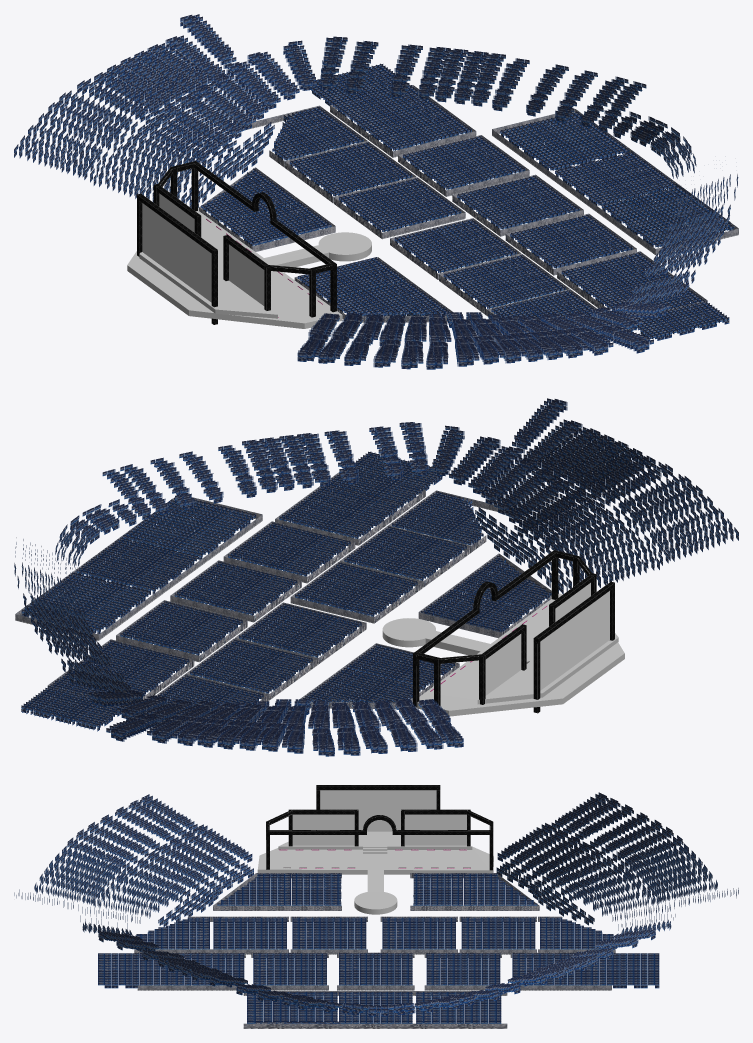
File: TokyoDome-Exp.fbx
The picture shows the model from 3 angles, top to bottom: view 1: azimuth 30°, elevation 25°; view 2: azimuth 150°, elevation 25°; view 3: azimuth 270°, elevation 25°; orthographic projection. The views are drawn at different scales.
Parts seen in each view (by area): view 1: Object002, Bound, Cylinder001, Object025, ScreenBack, Object018, Screens; view 2: Object002, Bound, Cylinder001, Object025, ScreenBack, Object018, Screens; view 3: Object002, Bound, Cylinder001, Object025, Screens, ScreenBack, Object018.
Part boxes in pixels (left/top/right/bottom): Object002: left=14, top=14, right=738, bottom=369; Bound: left=199, top=85, right=738, bottom=322; Cylinder001: left=127, top=210, right=371, bottom=328; Object025: left=137, top=161, right=336, bottom=324; ScreenBack: left=142, top=203, right=211, bottom=302; Object018: left=311, top=63, right=420, bottom=117; Screens: left=159, top=193, right=264, bottom=305; Object002: left=14, top=398, right=738, bottom=756; Bound: left=15, top=472, right=551, bottom=709; Cylinder001: left=382, top=593, right=624, bottom=716; Object025: left=413, top=550, right=614, bottom=713; ScreenBack: left=540, top=591, right=609, bottom=690; Object018: left=21, top=673, right=143, bottom=731; Screens: left=485, top=583, right=590, bottom=695; Object002: left=14, top=792, right=738, bottom=1023; Bound: left=134, top=873, right=615, bottom=1028; Cylinder001: left=257, top=831, right=493, bottom=914; Object025: left=266, top=785, right=493, bottom=872; Screens: left=292, top=814, right=466, bottom=845; ScreenBack: left=320, top=790, right=435, bottom=831; Object018: left=585, top=953, right=659, bottom=988.
Bounding box in the file's own units: 130 × 18.33 × 187.
